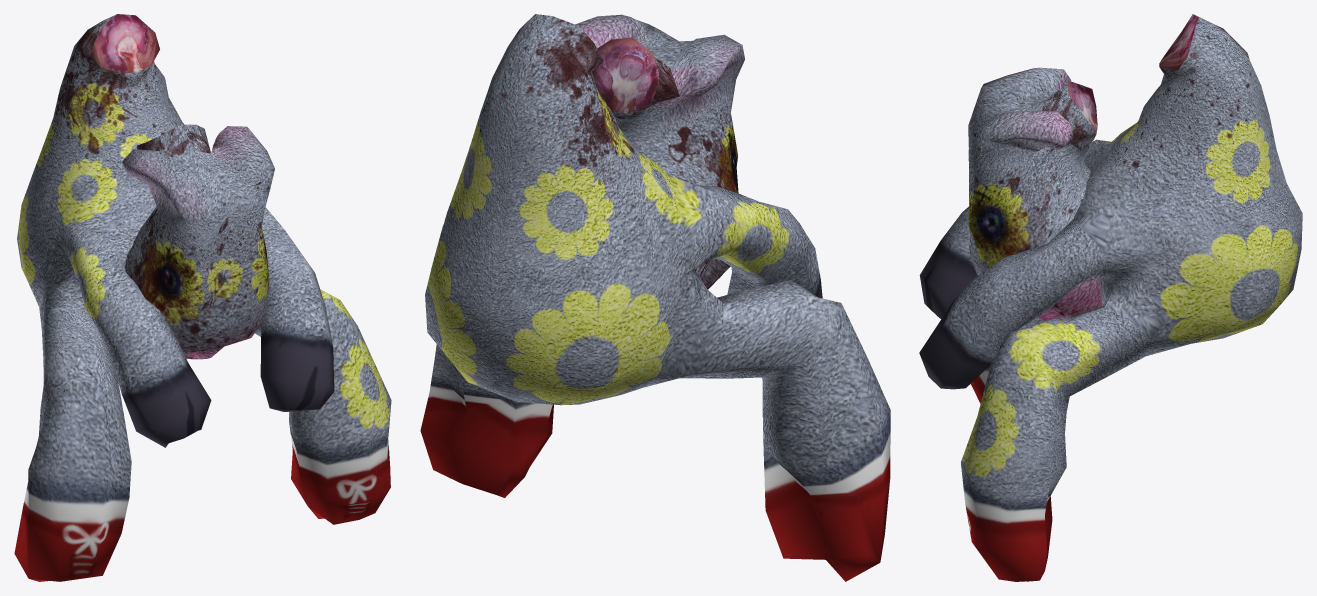
Rendered from Prop_GoatDestroyed_model.fbx.
3 renders of one model, left to right at view 1: azimuth 30°, elevation 25°; view 2: azimuth 150°, elevation 25°; view 3: azimuth 270°, elevation 25°, orthographic. The views are drawn at different scales.
Parts seen in each view (by area): view 1: Prop_GoatDestoyed; view 2: Prop_GoatDestoyed; view 3: Prop_GoatDestoyed.
Part boxes in pixels (left/top/right/bottom): Prop_GoatDestoyed: left=14, top=14, right=391, bottom=581; Prop_GoatDestoyed: left=420, top=14, right=890, bottom=581; Prop_GoatDestoyed: left=919, top=14, right=1302, bottom=581.
Bounding box in the file's own units: 20.83 × 26.28 × 18.65.
